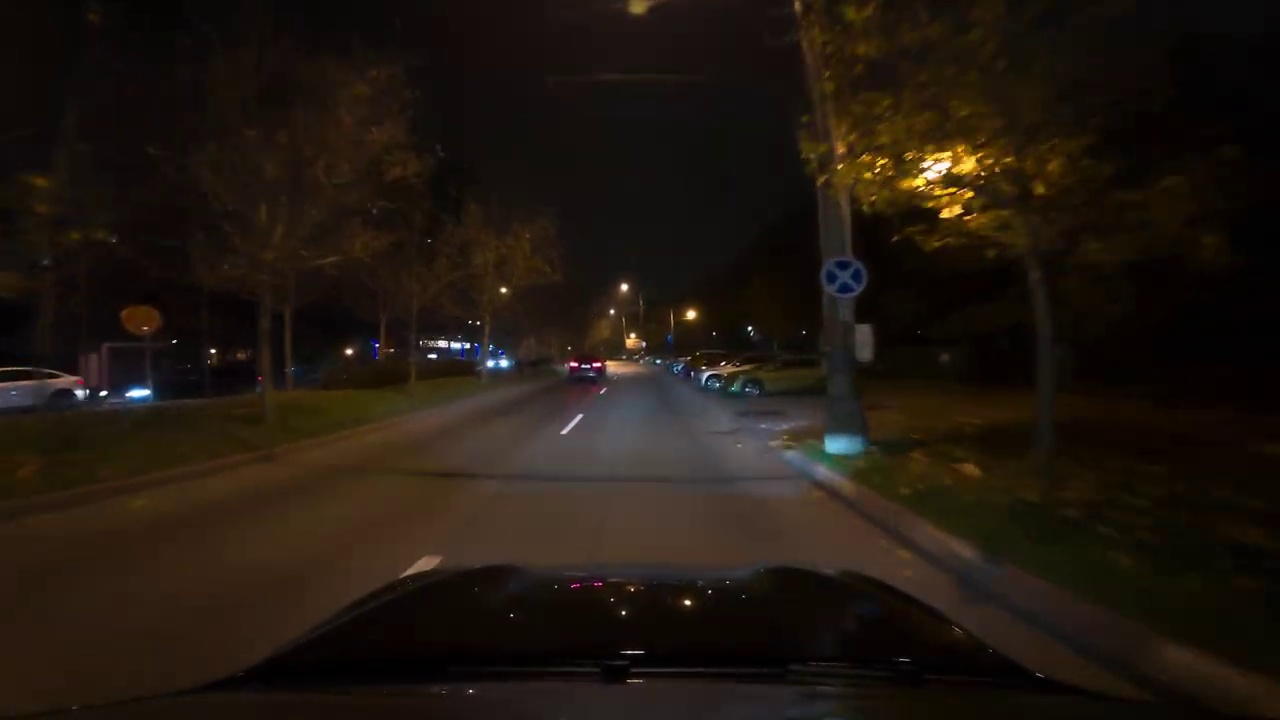acesa: (613, 280, 633, 299)
